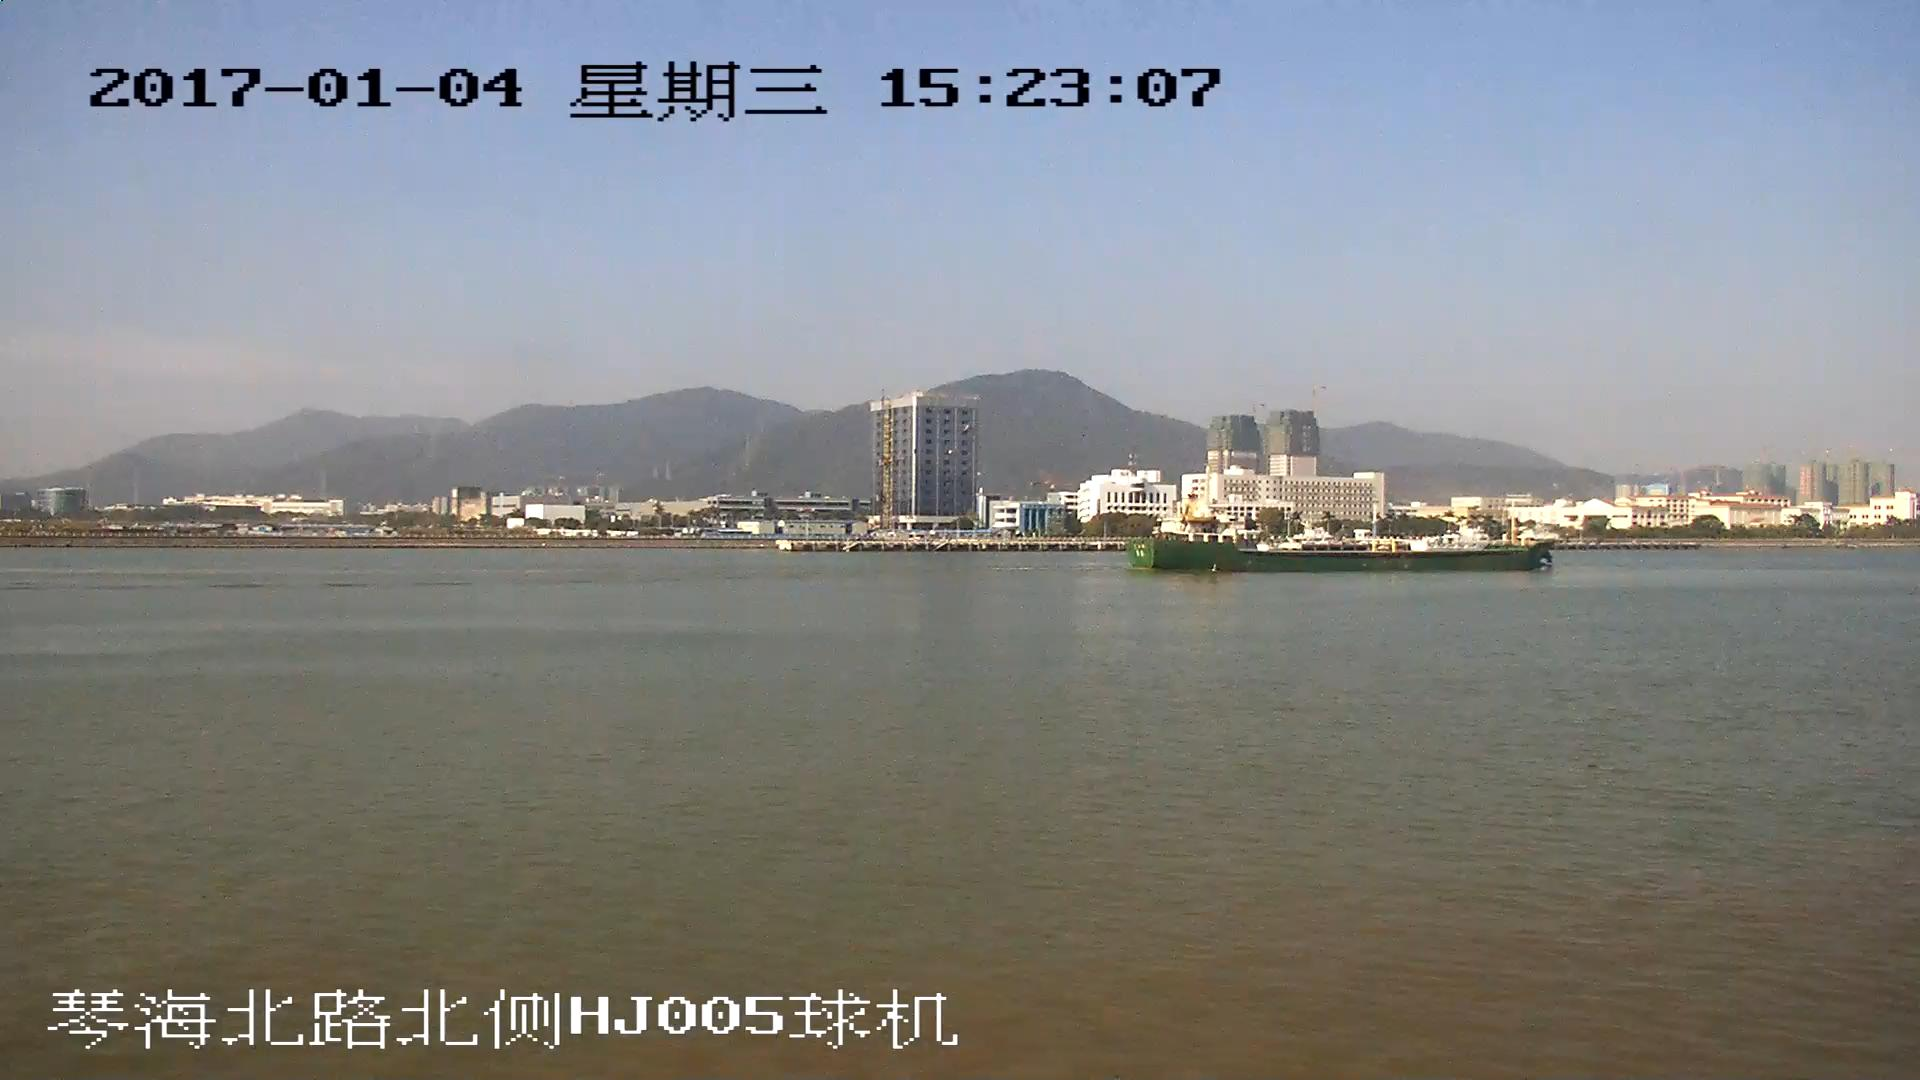general cargo ship: (1131, 487, 1556, 576)
